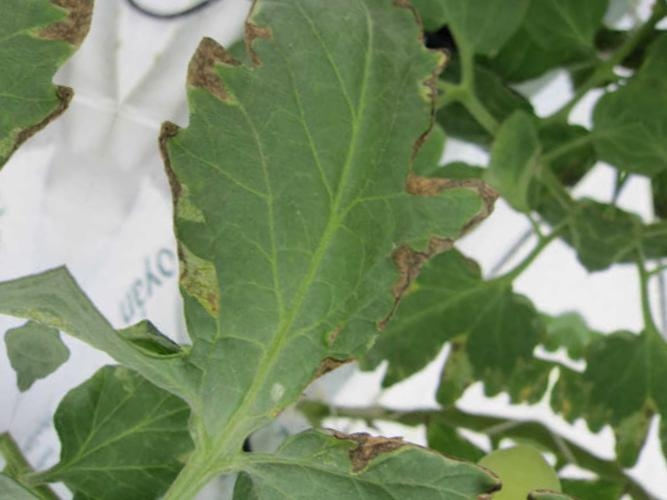Tomato leaf bacterial spot: (75, 0, 569, 482), (188, 371, 514, 500)
